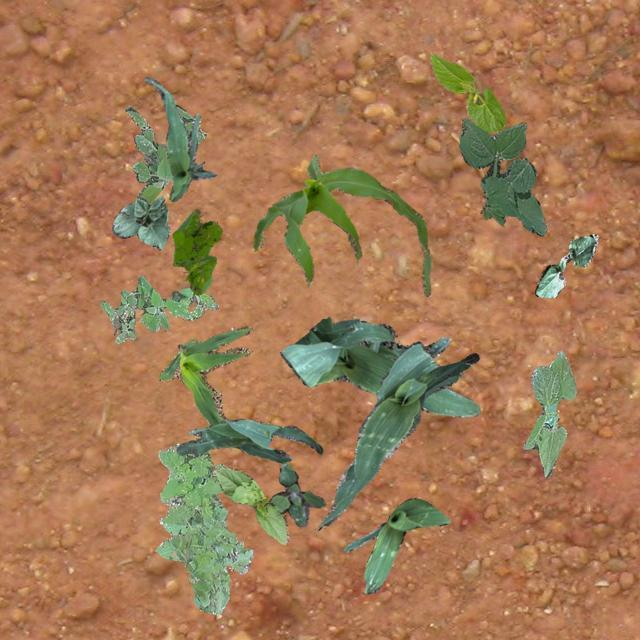crop: (316, 341, 478, 528), (252, 154, 429, 296), (278, 316, 478, 416), (342, 498, 448, 592), (157, 324, 250, 424), (144, 76, 216, 200), (522, 349, 576, 476), (176, 418, 322, 462), (212, 466, 288, 544), (430, 52, 504, 132), (534, 232, 598, 296), (112, 196, 168, 248)
weed: (154, 442, 252, 614), (458, 118, 546, 235), (100, 274, 218, 342), (124, 104, 204, 204), (172, 208, 222, 294), (268, 462, 324, 526)
